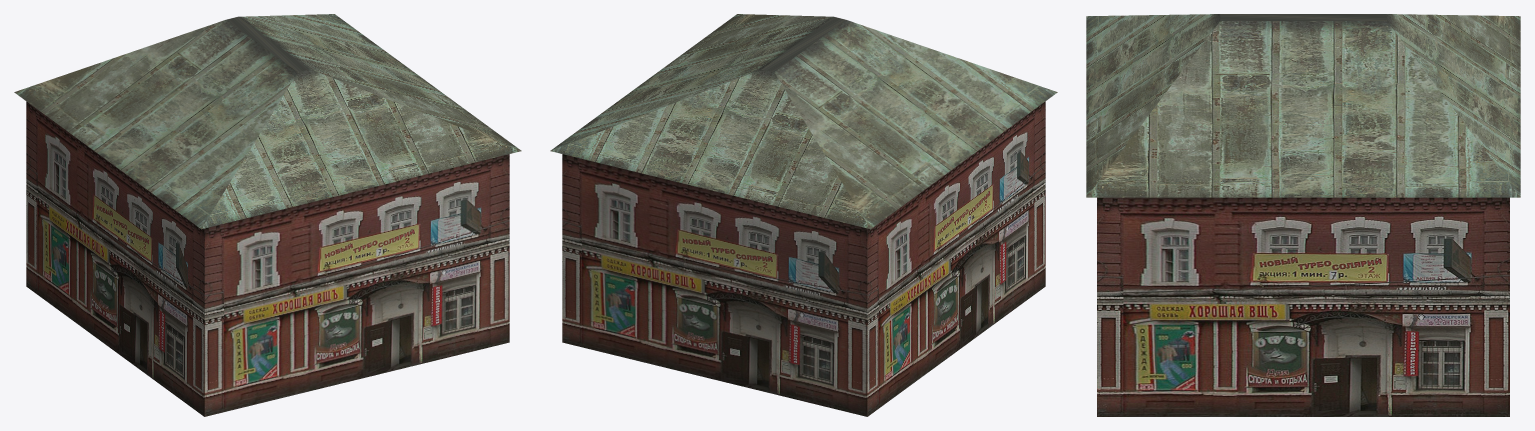
File: d_dom_2et_43.FBX
3 views of the same model, side by side, from view 1: azimuth 30°, elevation 25°; view 2: azimuth 150°, elevation 25°; view 3: azimuth 270°, elevation 25° (orthographic). The views are drawn at different scales.
Parts seen in each view (by area): view 1: d_dom_2et_43; view 2: d_dom_2et_43; view 3: d_dom_2et_43.
Part boxes in pixels (x1,y1,x2,y2): d_dom_2et_43: (14, 14, 521, 416); d_dom_2et_43: (550, 14, 1057, 416); d_dom_2et_43: (1086, 14, 1520, 416).
Size of the model in its own units: 10.65 by 10.77 by 8.57.
